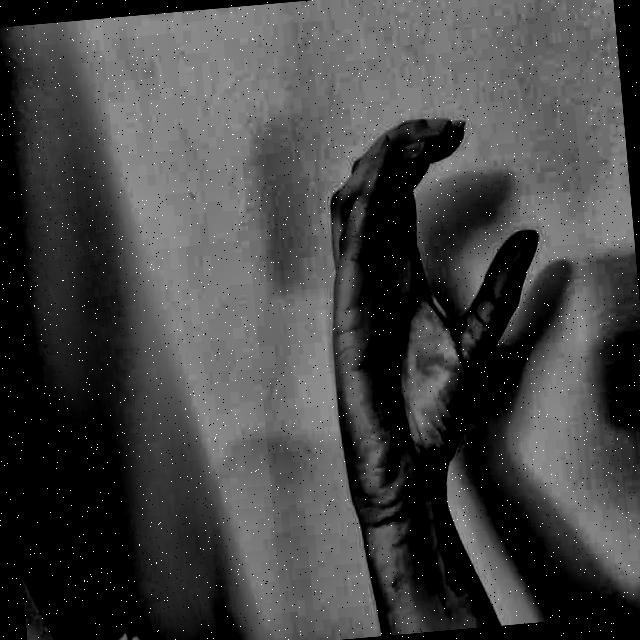A: (294, 85, 590, 564)
